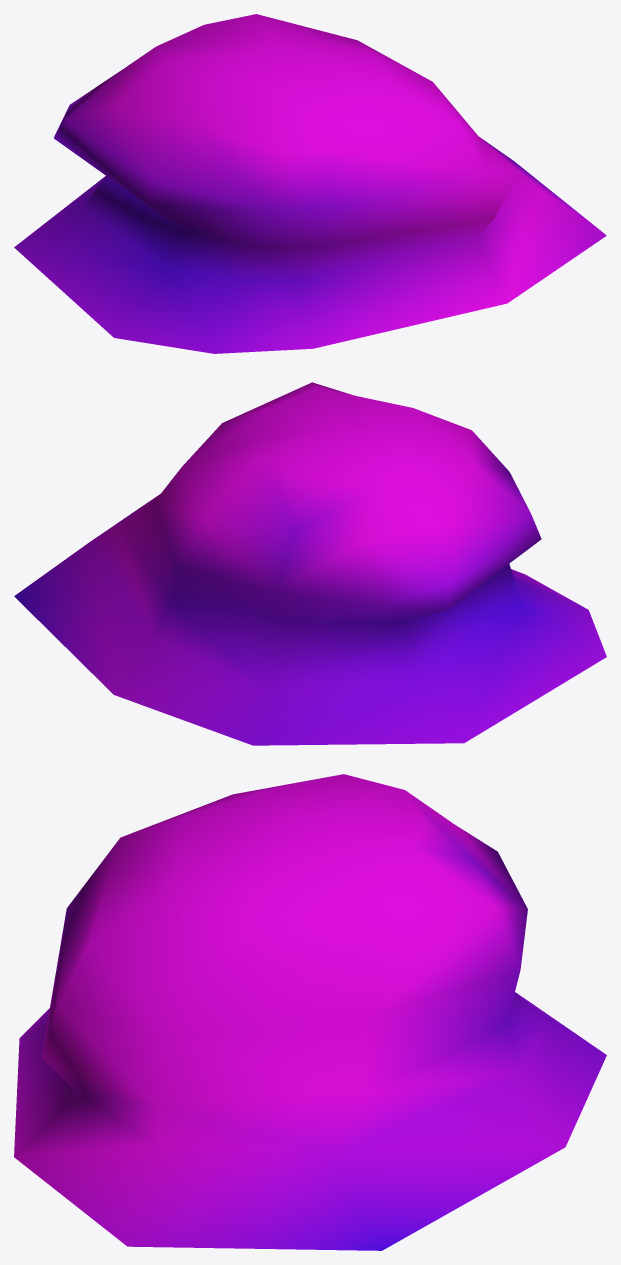
The model's file is SM_Mound_01.FBX.
3 views of the same model, one above another, from view 1: azimuth 30°, elevation 25°; view 2: azimuth 150°, elevation 25°; view 3: azimuth 270°, elevation 25° (orthographic). The views are drawn at different scales.
Visible parts, largest first — view 1: SM_Mound_01; view 2: SM_Mound_01; view 3: SM_Mound_01.
Part boxes in pixels (box(x1,y1,x2,y2)): SM_Mound_01: box(14, 14, 606, 353); SM_Mound_01: box(14, 382, 606, 745); SM_Mound_01: box(14, 774, 606, 1250).
Bounding box in the file's own units: 645 × 542 × 263.
